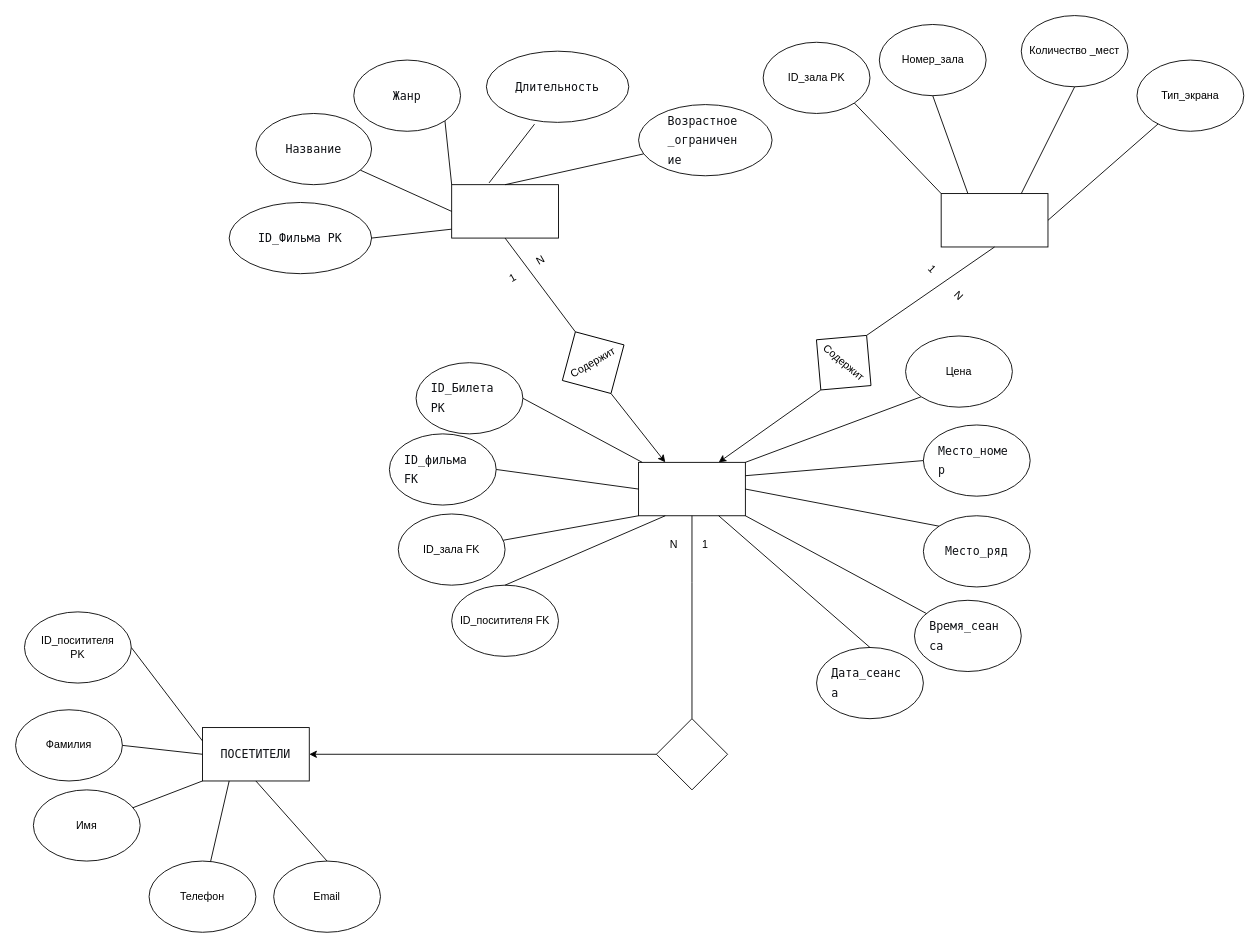
This 1259x948 diagram has some shape labels left out. Here are the shapes that lost their labels. From the top down, the centre of each, then its label:
the point at 504,211: ФИЛЬМЫ
the point at 994,220: Залы
the point at 691,488: Билеты
the point at 691,754: Приобретает
